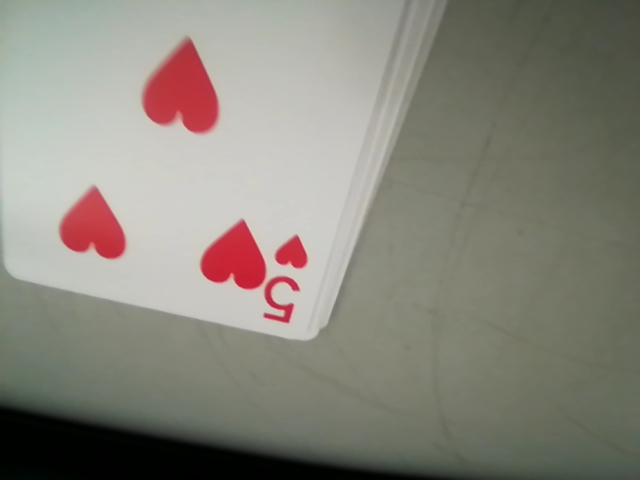hx 5: (264, 230, 308, 324)
